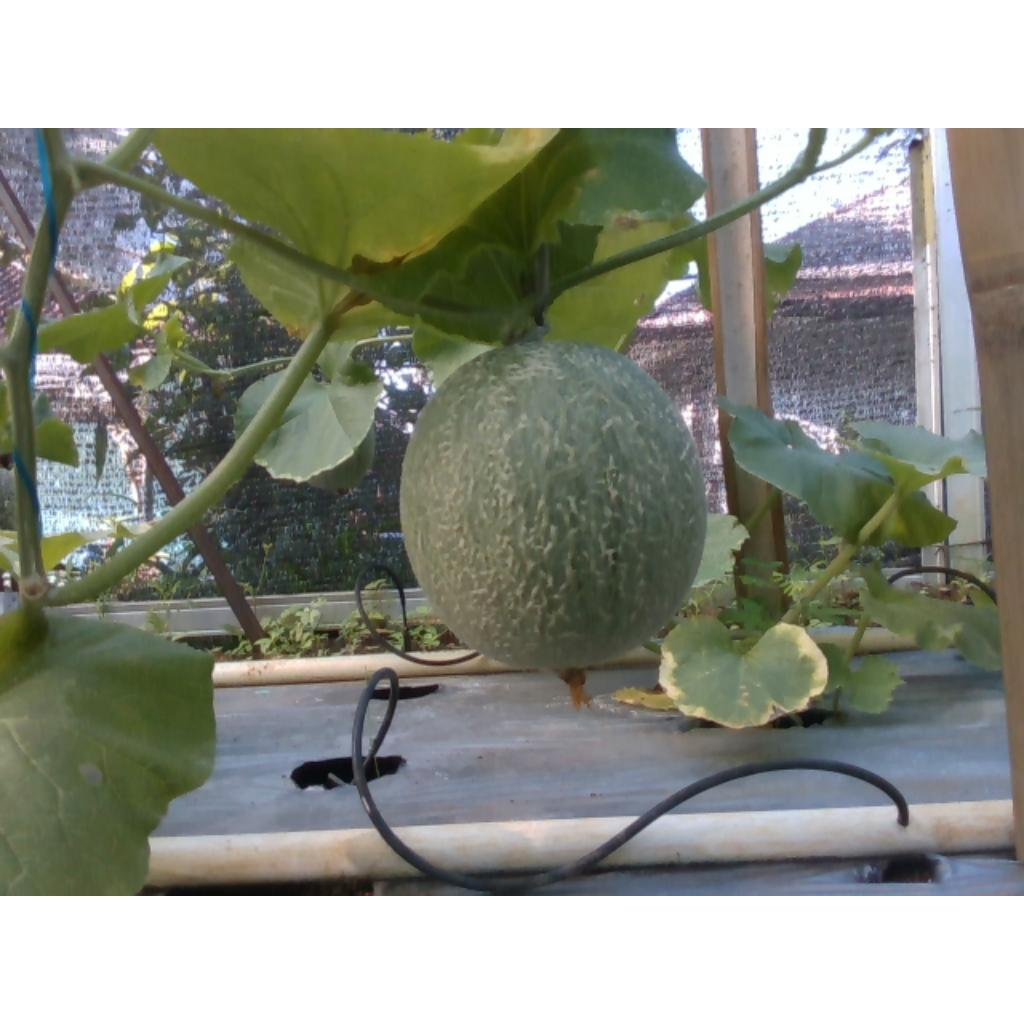melon: (402, 341, 707, 670)
